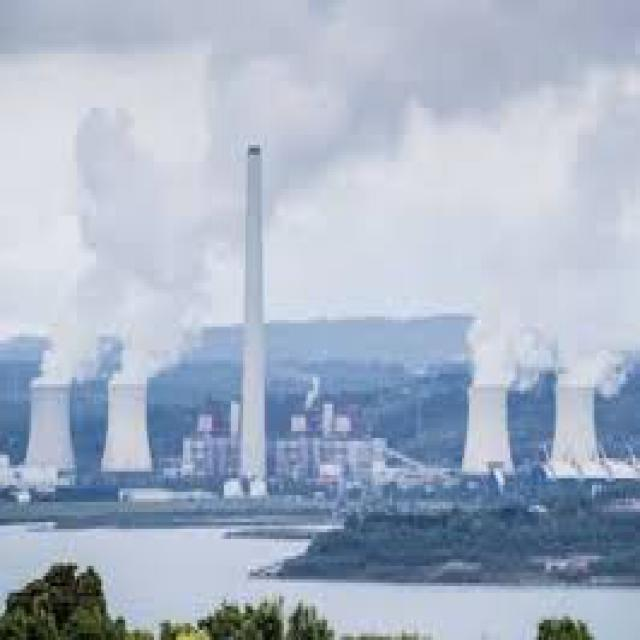smoke: (67, 138, 219, 334)
